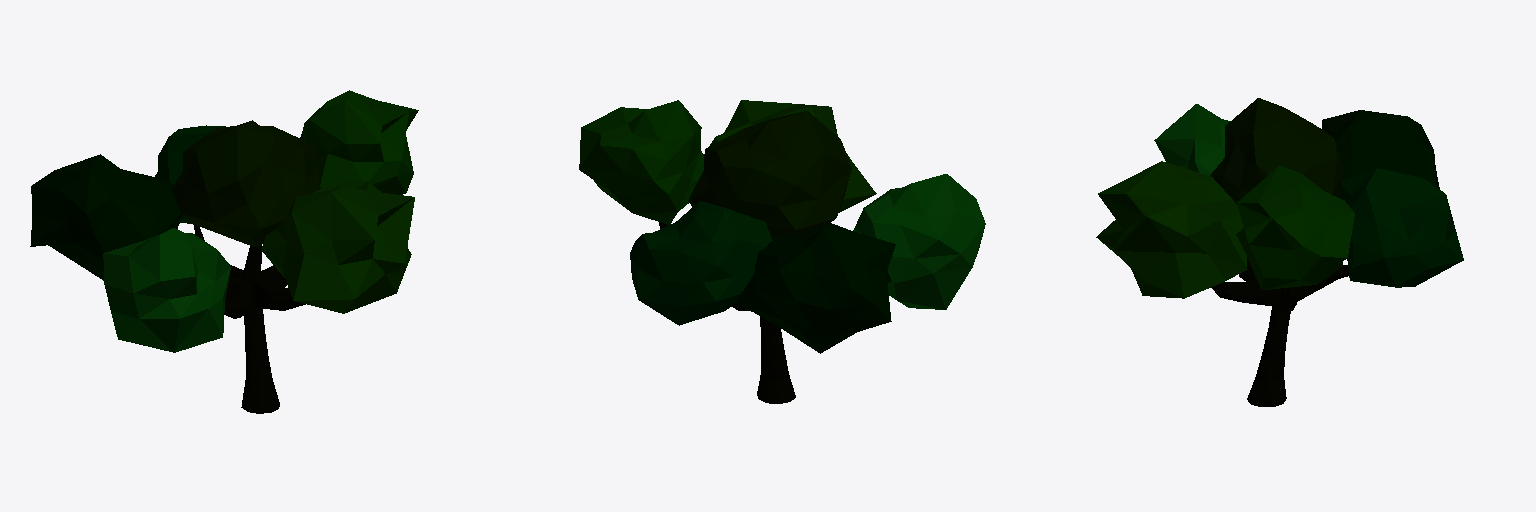
The model's file is tree.obj.
3 renders of one model, left to right at view 1: azimuth 30°, elevation 25°; view 2: azimuth 150°, elevation 25°; view 3: azimuth 270°, elevation 25°, orthographic.
Visible parts, largest first — view 1: Icosphere.004, Icosphere, Icosphere.002, Icosphere.001, Icosphere.003, Cylinder, Icosphere.005; view 2: Icosphere.001, Icosphere, Icosphere.005, Icosphere.002, Icosphere.003, Icosphere.004, Cylinder; view 3: Icosphere.004, Icosphere.005, Icosphere.003, Icosphere, Icosphere.001, Cylinder, Icosphere.002.
Part boxes in pixels (left/top/right/bottom): Icosphere.004: left=261, top=181, right=414, bottom=313; Icosphere: left=171, top=120, right=318, bottom=246; Icosphere.002: left=103, top=228, right=230, bottom=352; Icosphere.001: left=30, top=154, right=182, bottom=280; Icosphere.003: left=300, top=90, right=418, bottom=194; Cylinder: left=193, top=224, right=305, bottom=413; Icosphere.005: left=155, top=125, right=225, bottom=223; Icosphere.001: left=737, top=223, right=895, bottom=353; Icosphere: left=688, top=111, right=851, bottom=239; Icosphere.005: left=630, top=201, right=772, bottom=325; Icosphere.002: left=853, top=174, right=985, bottom=309; Icosphere.003: left=579, top=100, right=703, bottom=224; Icosphere.004: left=710, top=100, right=876, bottom=212; Cylinder: left=659, top=222, right=795, bottom=403; Icosphere.004: left=1096, top=161, right=1247, bottom=298; Icosphere.005: left=1338, top=168, right=1463, bottom=287; Icosphere.003: left=1236, top=165, right=1354, bottom=289; Icosphere: left=1210, top=98, right=1343, bottom=204; Icosphere.001: left=1322, top=110, right=1439, bottom=188; Cylinder: left=1211, top=257, right=1348, bottom=406; Icosphere.002: left=1154, top=104, right=1230, bottom=175.
Size of the model in its own units: 40.59 by 32 by 36.99.